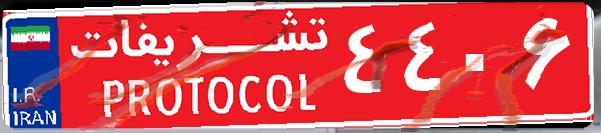0: (460, 20, 520, 115)
4: (340, 20, 400, 115), (400, 20, 460, 115)
6: (520, 20, 580, 115)
تشریفات: (60, 8, 340, 125)
